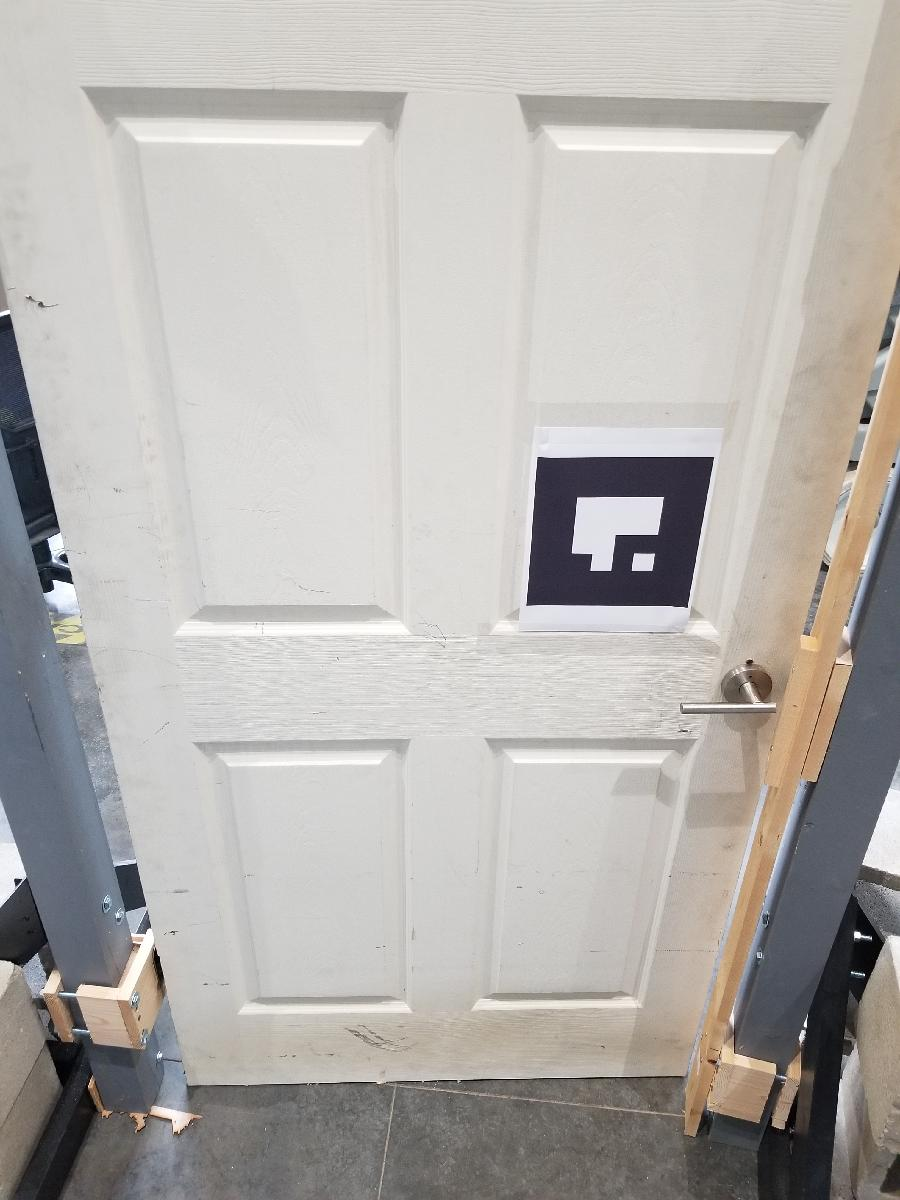doorHandle: (677, 659, 781, 723)
